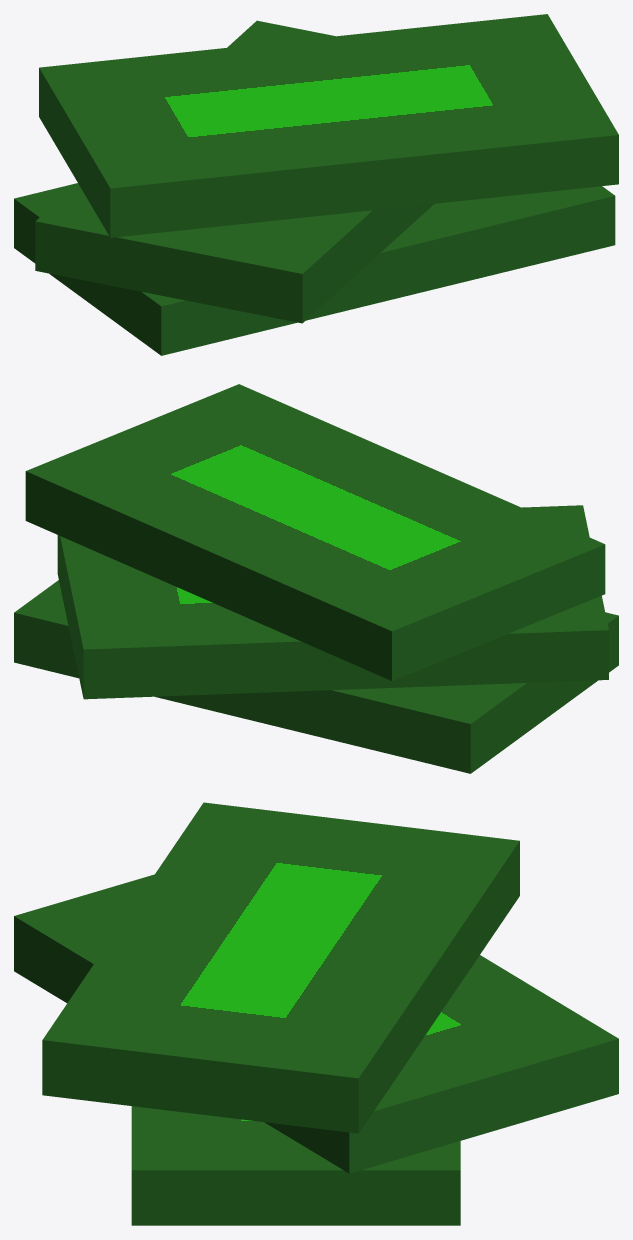
The model's file is Money.obj.
The picture shows the model from 3 angles, top to bottom: view 1: azimuth 30°, elevation 25°; view 2: azimuth 150°, elevation 25°; view 3: azimuth 270°, elevation 25°; orthographic projection. The views are drawn at different scales.
Parts seen in each view (by area): view 1: cube; view 2: cube; view 3: cube.
Part boxes in pixels (<box>): cube: <box>14,14,618,355</box>; cube: <box>14,384,618,773</box>; cube: <box>14,802,618,1225</box>.
Bounding box in the file's own units: 0.3608 × 0.0938 × 0.3103.
Materials: 1 (1 with a texture image).
